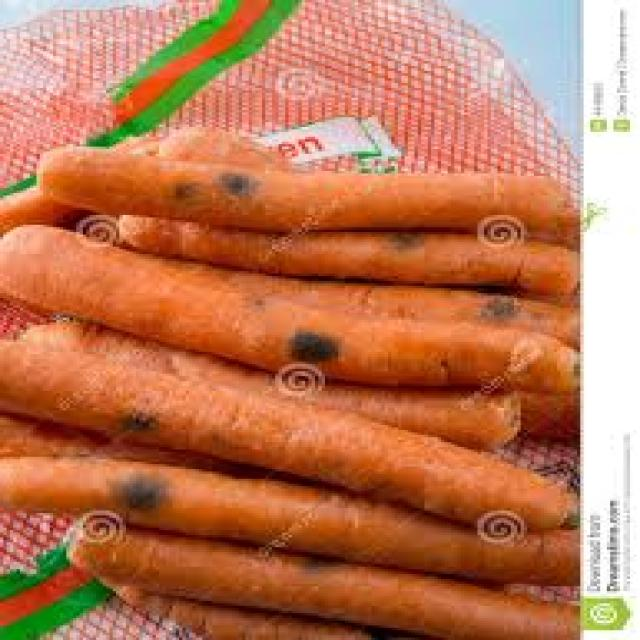Stale_Carrot: (71, 151, 484, 239), (225, 289, 484, 394), (60, 453, 283, 540), (51, 346, 216, 457), (291, 220, 508, 293), (407, 286, 573, 351)
